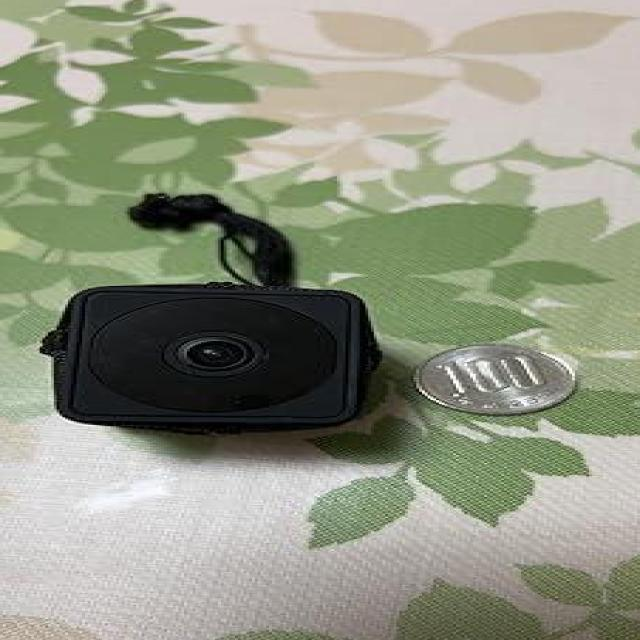hidden camera: (75, 293, 358, 418)
